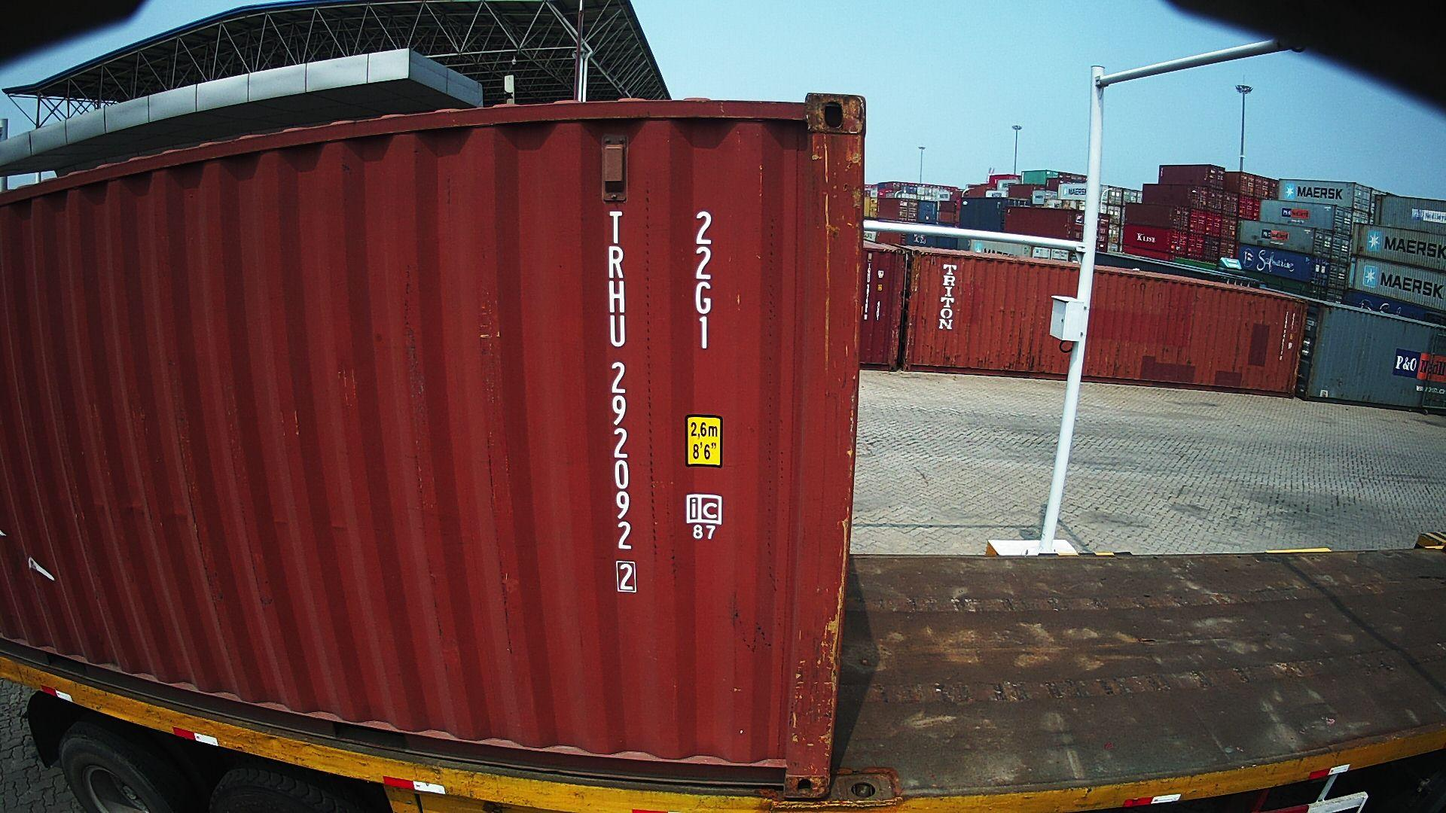container-numbers: (602, 202, 639, 599), (688, 207, 718, 353)
